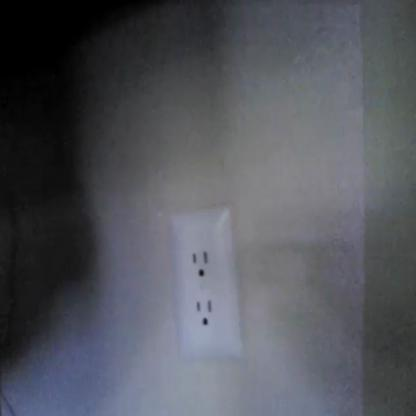OUTLET: (168, 206, 242, 360)
